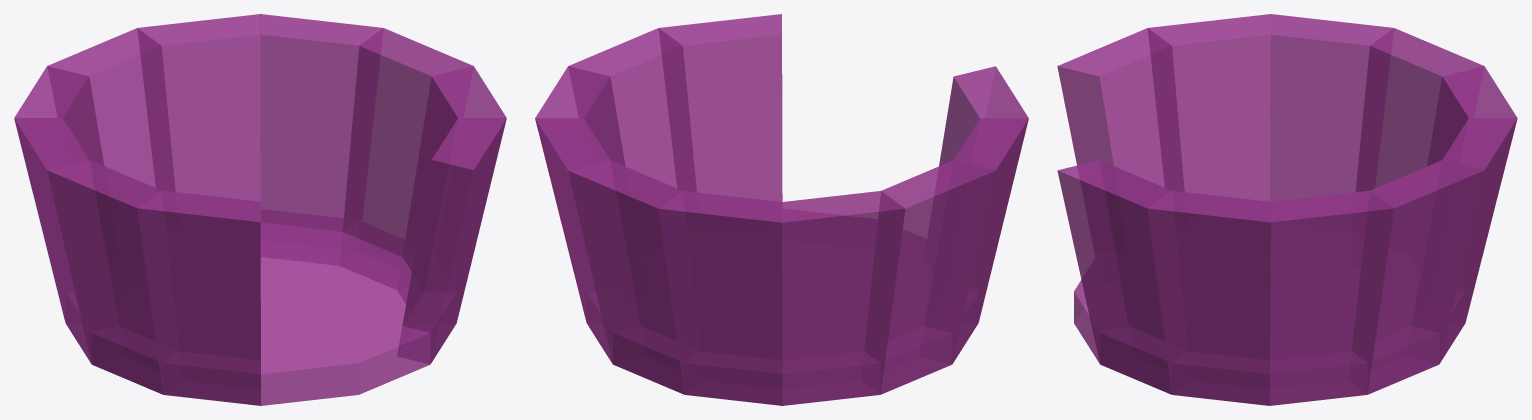
The model's file is SM_Prop_Crows_Nest_02_Collision.fbx.
The picture shows the model from 3 angles, left to right: view 1: azimuth 30°, elevation 25°; view 2: azimuth 150°, elevation 25°; view 3: azimuth 270°, elevation 25°; orthographic projection.
Parts seen in each view (by area): view 1: SM_Prop_Crows_Nest_02_Collision; view 2: SM_Prop_Crows_Nest_02_Collision; view 3: SM_Prop_Crows_Nest_02_Collision.
Boxes of the visible parts, x1=… form: SM_Prop_Crows_Nest_02_Collision: x1=14, y1=14, x2=506, y2=405; SM_Prop_Crows_Nest_02_Collision: x1=535, y1=14, x2=1028, y2=405; SM_Prop_Crows_Nest_02_Collision: x1=1057, y1=14, x2=1517, y2=405.
Size of the model in its own units: 276 by 126 by 257.
